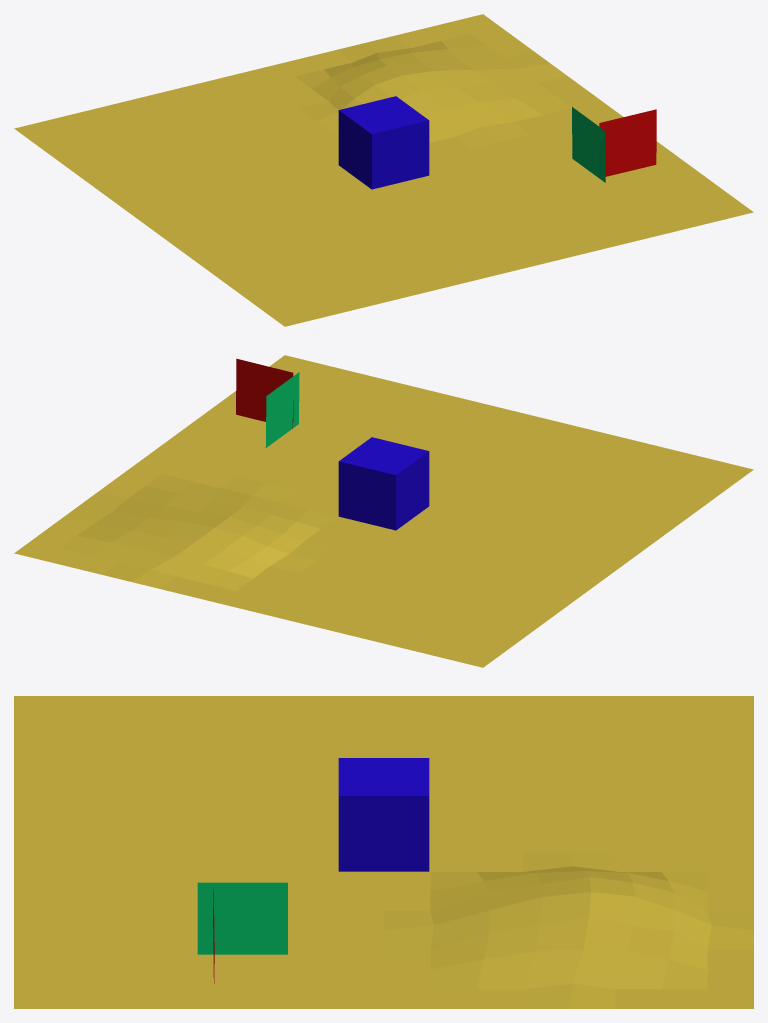
File: empty.obj
The picture shows the model from 3 angles, top to bottom: view 1: azimuth 30°, elevation 25°; view 2: azimuth 150°, elevation 25°; view 3: azimuth 270°, elevation 25°; orthographic projection. The views are drawn at different scales.
Parts seen in each view (by area): view 1: Plane, Cube_Cube.001, Plane.002, Plane.001; view 2: Plane, Cube_Cube.001, Plane.002, Plane.001; view 3: Plane, Cube_Cube.001, Plane.001.
Boxes of the visible parts, x1=… form: Plane: x1=14, y1=14, x2=753, y2=326; Cube_Cube.001: x1=338, y1=96, x2=429, y2=189; Plane.002: x1=599, y1=109, x2=656, y2=177; Plane.001: x1=572, y1=107, x2=605, y2=182; Plane: x1=14, y1=355, x2=753, y2=667; Cube_Cube.001: x1=338, y1=437, x2=429, y2=530; Plane.002: x1=236, y1=358, x2=293, y2=428; Plane.001: x1=265, y1=372, x2=299, y2=447; Plane: x1=14, y1=696, x2=753, y2=1008; Cube_Cube.001: x1=338, y1=758, x2=429, y2=871; Plane.001: x1=197, y1=882, x2=287, y2=954.
Bounding box in the file's own units: 16.36 × 2.11 × 16.36.
